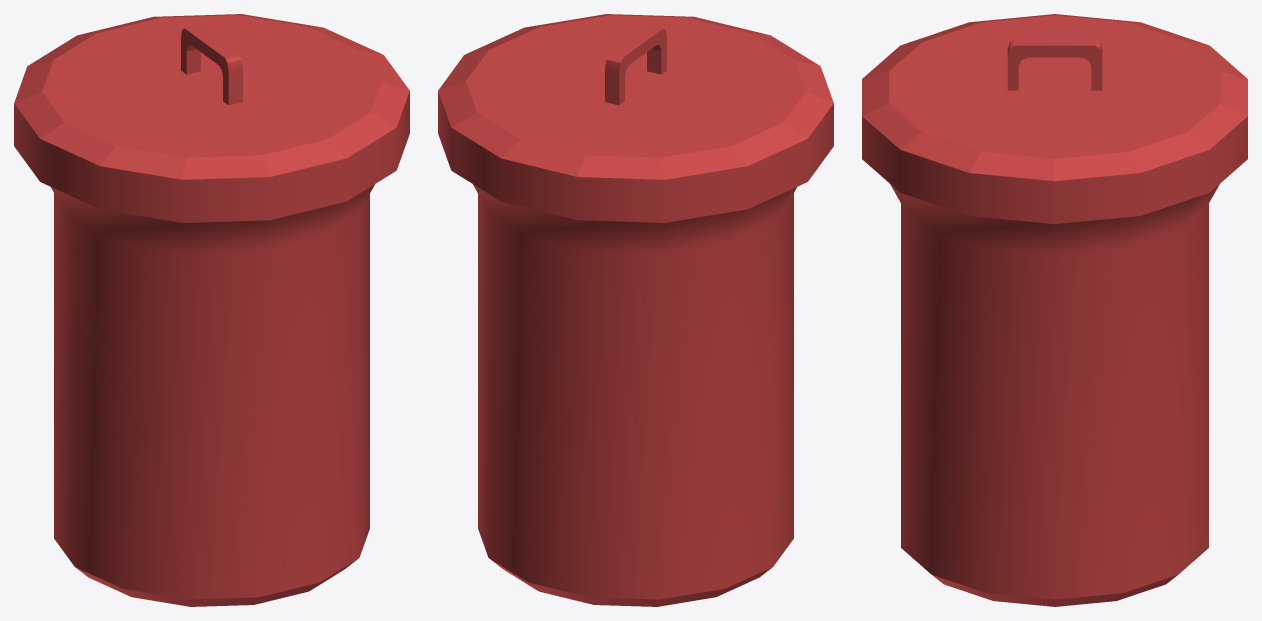
Rendered from DustBoxVer1Red.fbx.
3 renders of one model, left to right at view 1: azimuth 30°, elevation 25°; view 2: azimuth 150°, elevation 25°; view 3: azimuth 270°, elevation 25°, orthographic.
Parts seen in each view (by area): view 1: DustBoxVer1Red; view 2: DustBoxVer1Red; view 3: DustBoxVer1Red.
Boxes of the visible parts, bbox=[...] form: DustBoxVer1Red: bbox=[14, 14, 409, 606]; DustBoxVer1Red: bbox=[438, 14, 833, 606]; DustBoxVer1Red: bbox=[862, 14, 1247, 606].
Size of the model in its own units: 95.14 by 134 by 92.75.
